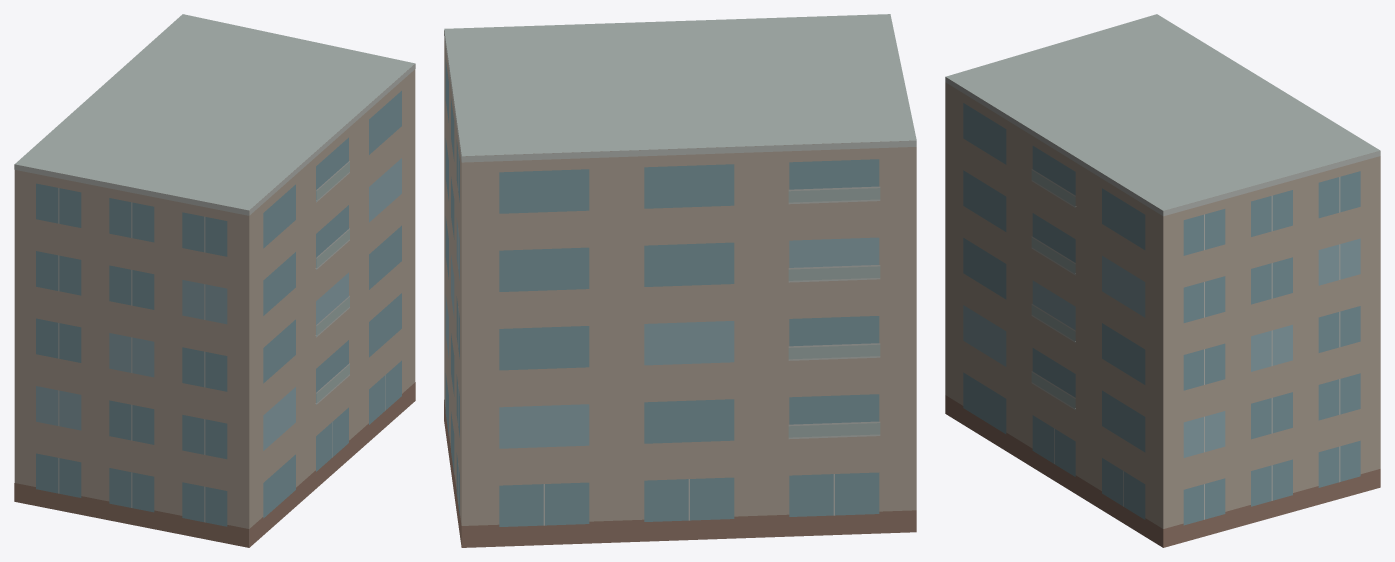
File: survey-upis-32746487.glb
3 views of the same model, side by side, from view 1: azimuth 30°, elevation 25°; view 2: azimuth 150°, elevation 25°; view 3: azimuth 270°, elevation 25° (orthographic). The views are drawn at different scales.
Parts seen in each view (by area): view 1: survey-upis-32746487.tmp; view 2: survey-upis-32746487.tmp; view 3: survey-upis-32746487.tmp.
Boxes of the visible parts, x1,y1,x2,y2 form: survey-upis-32746487.tmp: [14, 14, 415, 547]; survey-upis-32746487.tmp: [444, 14, 916, 547]; survey-upis-32746487.tmp: [945, 14, 1380, 547].
Bounding box in the file's own units: 18.93 × 15.1 × 17.68.
